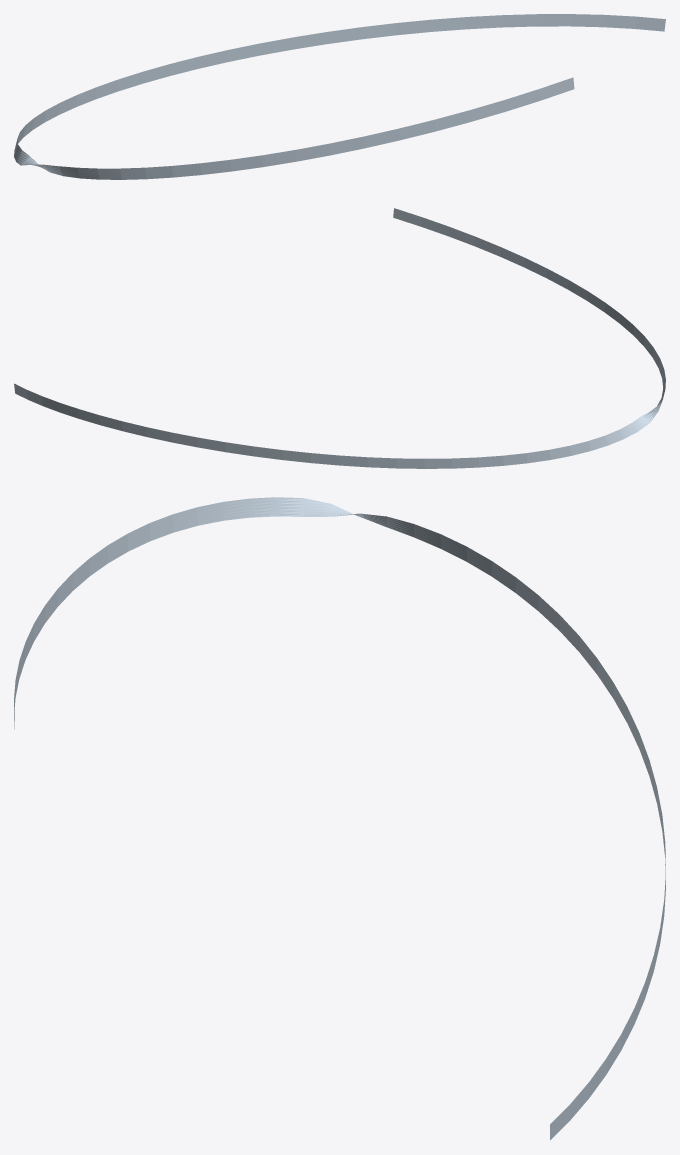
The model's file is 2085_ElectricRebirth_State_OwnRebirthFlow_1.fbx.
3 views of the same model, one above another, from view 1: azimuth 30°, elevation 25°; view 2: azimuth 150°, elevation 25°; view 3: azimuth 270°, elevation 25° (orthographic). The views are drawn at different scales.
Visible parts, largest first — view 1: PART_Electro_OwnRebirthFlow_1; view 2: PART_Electro_OwnRebirthFlow_1; view 3: PART_Electro_OwnRebirthFlow_1.
Boxes of the visible parts, x1,y1,x2,y2 form: PART_Electro_OwnRebirthFlow_1: (14, 14, 665, 179); PART_Electro_OwnRebirthFlow_1: (14, 208, 665, 468); PART_Electro_OwnRebirthFlow_1: (14, 497, 665, 1140).
Size of the model in its own units: 196 by 41.58 by 108.
